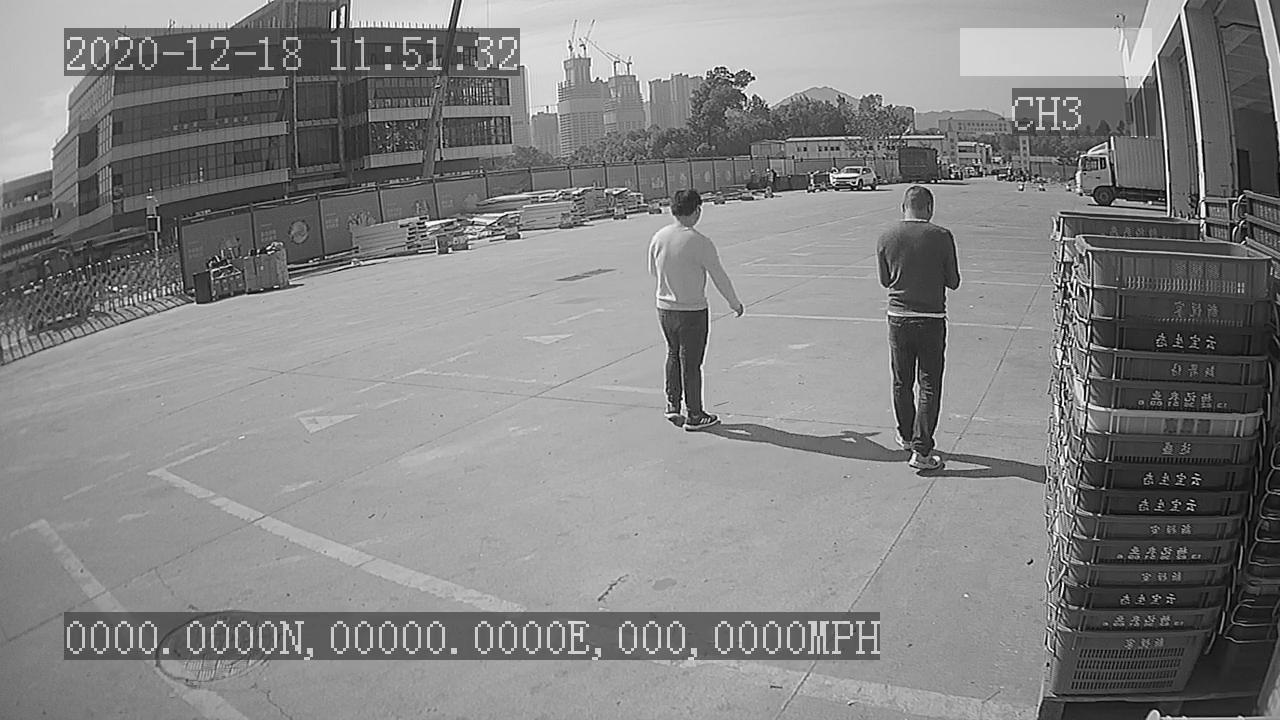person: (872, 177, 968, 472), (642, 186, 749, 433)
